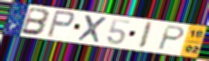5: (106, 18, 132, 46)
B: (19, 7, 52, 37)
I: (136, 21, 154, 51)
P: (46, 9, 77, 39), (156, 24, 187, 51)
X: (76, 14, 109, 45)
